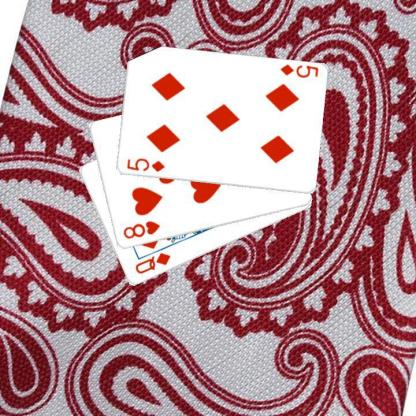5D: (124, 155, 166, 174), (277, 62, 320, 79)
8H: (120, 218, 161, 241)
QD: (132, 250, 172, 276)
